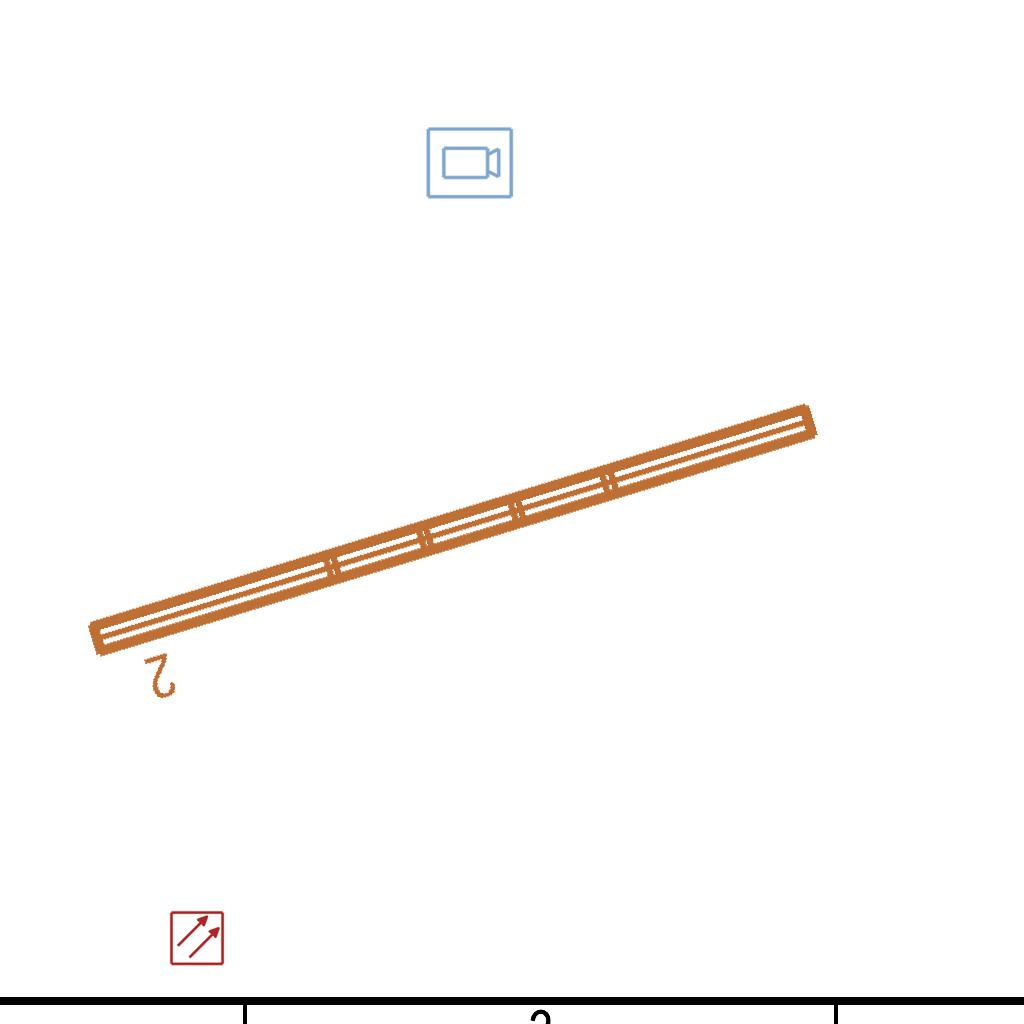Ambulanz_Pendelleuchte_LED: (74, 387, 848, 721)
KFO_Kamera_mit_Festobjektiv: (424, 125, 515, 202)
RMO_Rauchmelder_optischer: (169, 910, 225, 966)
